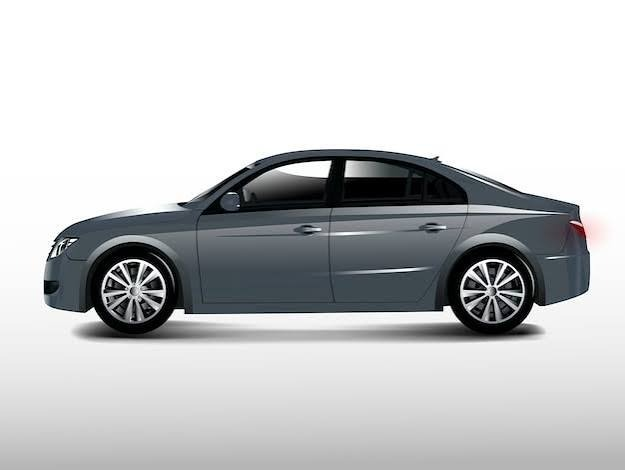car: (47, 154, 598, 338)
